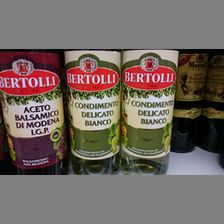vinegar: (1, 49, 68, 174), (63, 48, 121, 176), (124, 50, 178, 177)
